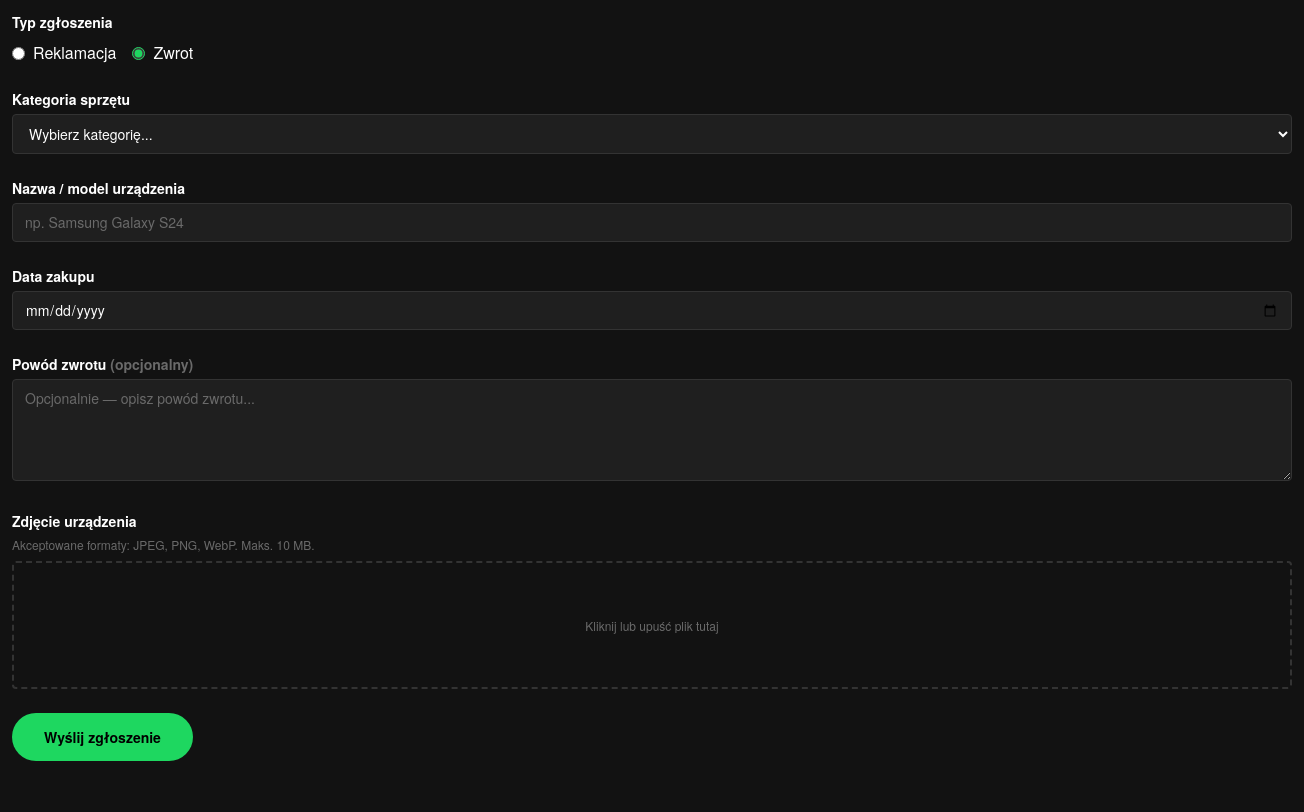
Test: IntakeForm — pole powodu (TAC-001-01, AC-05) › pole powodu jest wymagane dla Reklamacja
The width and height of the screenshot is (1304, 812).
Click the radio button labelled "Reklamacja": [18, 53] box [12,46,25,60]
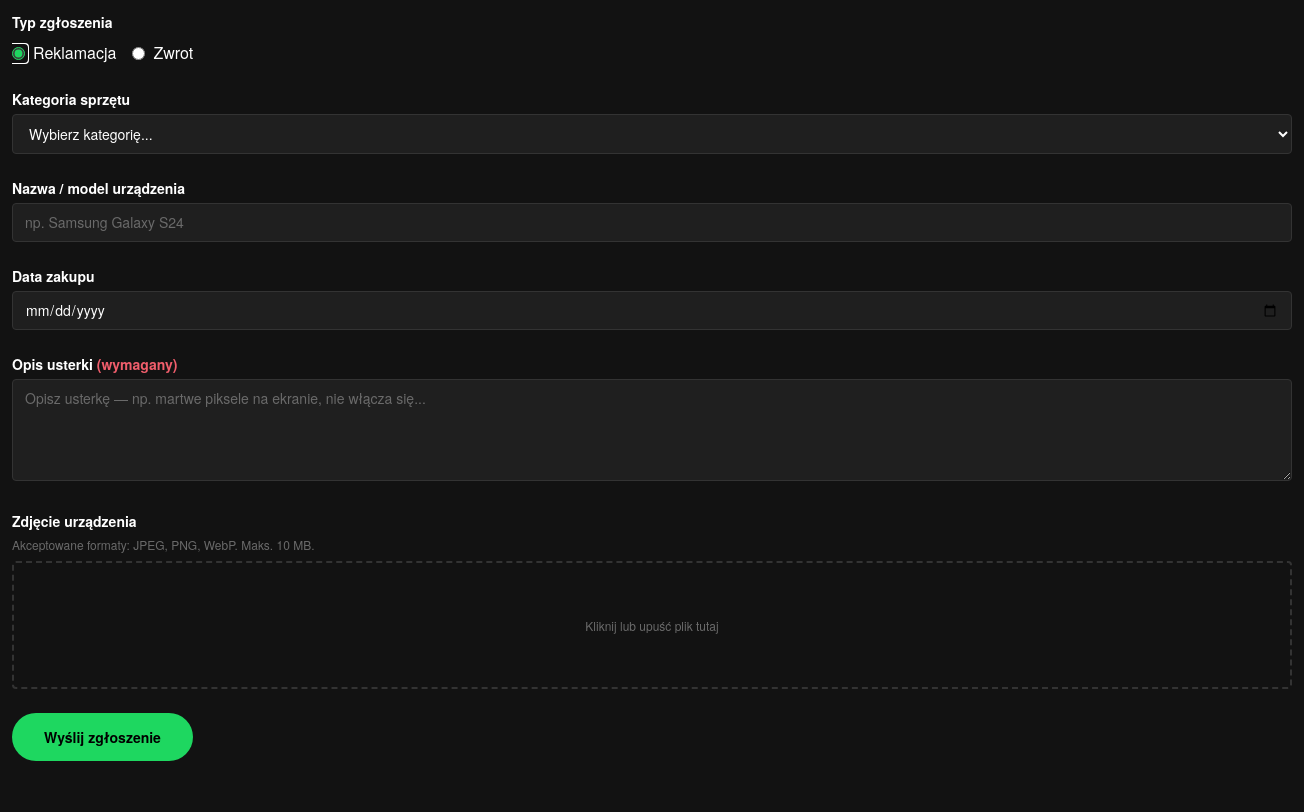
Check: the text "Opis usterki (wymagany)" is shown, box [12,354,178,374]
